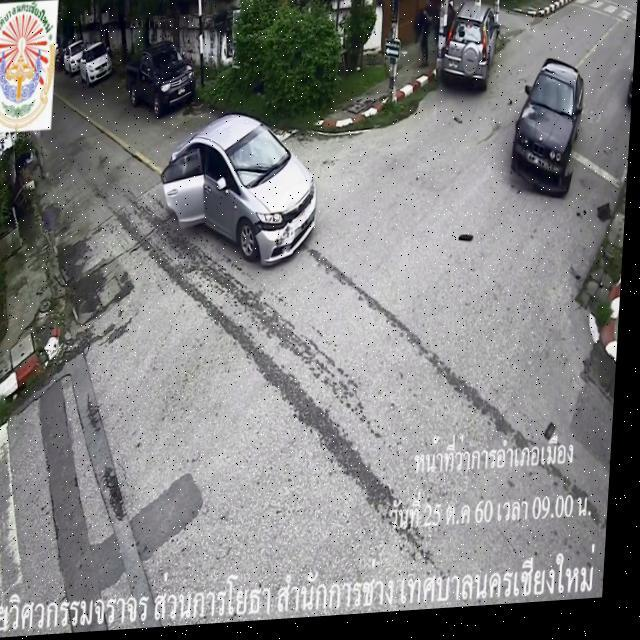multiple_accident: (122, 110, 385, 308), (475, 35, 594, 210)
